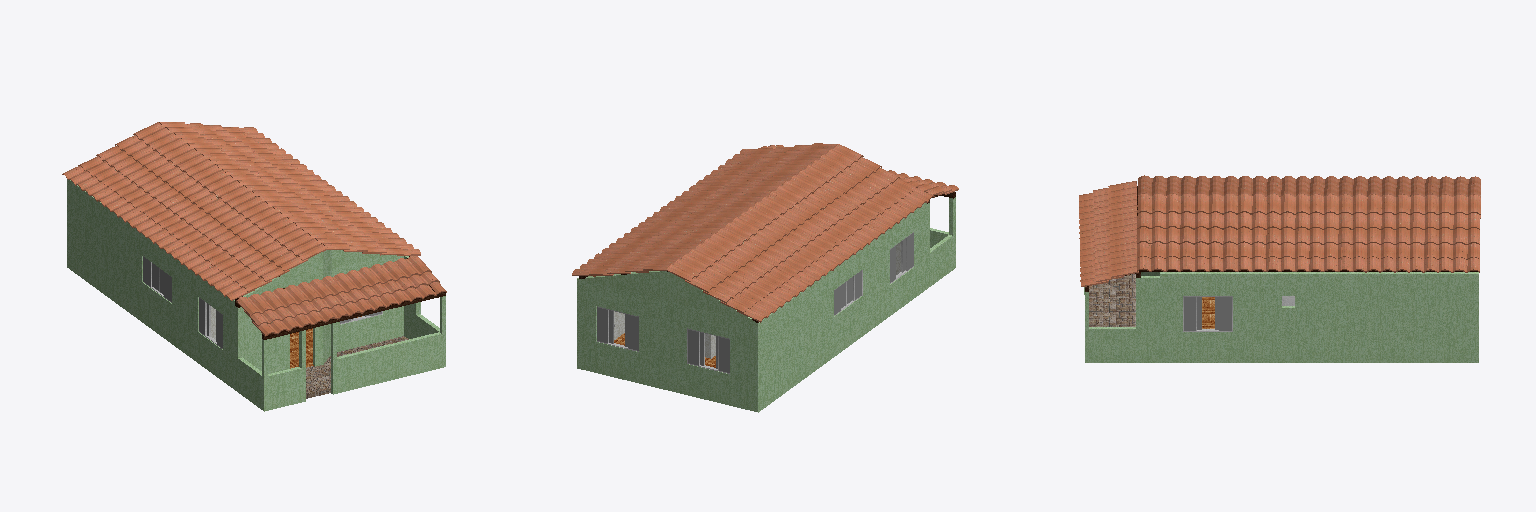
The picture shows the model from 3 angles: view 1: azimuth 30°, elevation 25°; view 2: azimuth 150°, elevation 25°; view 3: azimuth 270°, elevation 25°; orthographic projection.
Parts seen in each view (by area): view 1: HOUSE; view 2: HOUSE; view 3: HOUSE.
Boxes of the visible parts, x1=… form: HOUSE: x1=62, y1=122, x2=446, y2=411; HOUSE: x1=572, y1=143, x2=958, y2=412; HOUSE: x1=1079, y1=175, x2=1480, y2=362.
Size of the model in its own units: 105 by 64.67 by 190.
9 materials, 8 textured.